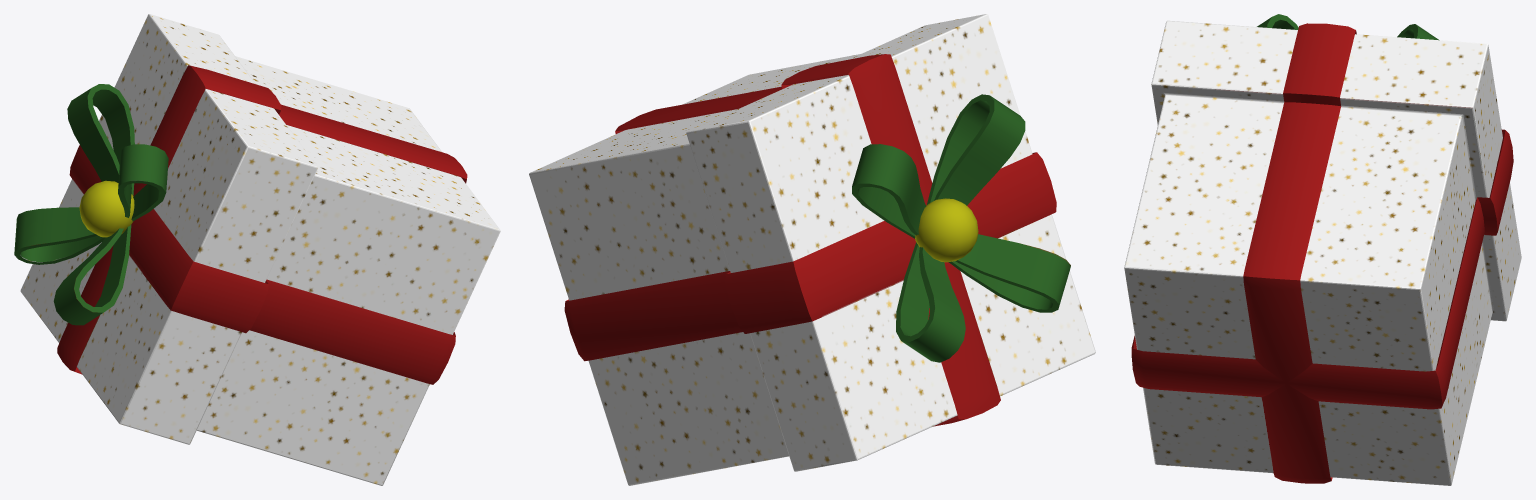
File: escenario_navidad_Regalo.fbx
The picture shows the model from 3 angles, left to right: view 1: azimuth 30°, elevation 25°; view 2: azimuth 150°, elevation 25°; view 3: azimuth 270°, elevation 25°; orthographic projection. The views are drawn at different scales.
Visible parts, largest first — view 1: Regalo.001; view 2: Regalo.001; view 3: Regalo.001.
Part boxes in pixels (bbox=[...]): Regalo.001: bbox=[14, 14, 500, 485]; Regalo.001: bbox=[529, 14, 1095, 485]; Regalo.001: bbox=[1124, 14, 1521, 485].
Size of the model in its own units: 2098 by 1857 by 1698.
